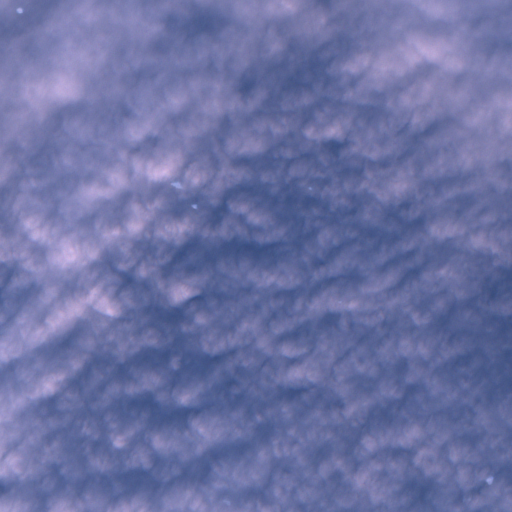Iceberg: (171, 182, 181, 188), (486, 476, 492, 484), (16, 7, 22, 13), (191, 204, 196, 208), (308, 187, 311, 189)
